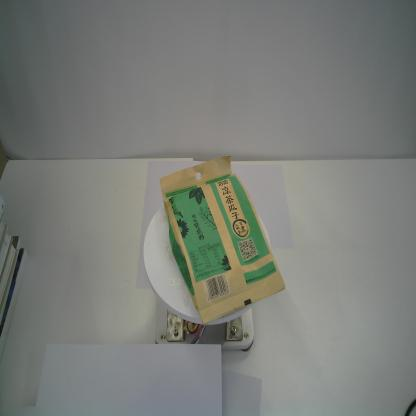Dried Food: (158, 152, 288, 329)
